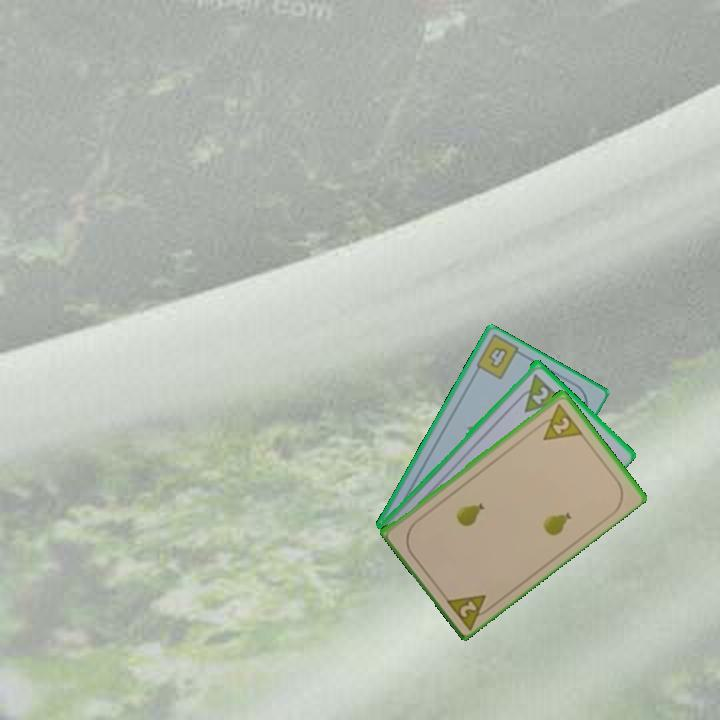2p: (441, 590, 497, 631), (533, 399, 585, 443), (528, 382, 552, 407)
4b: (485, 343, 511, 371)
